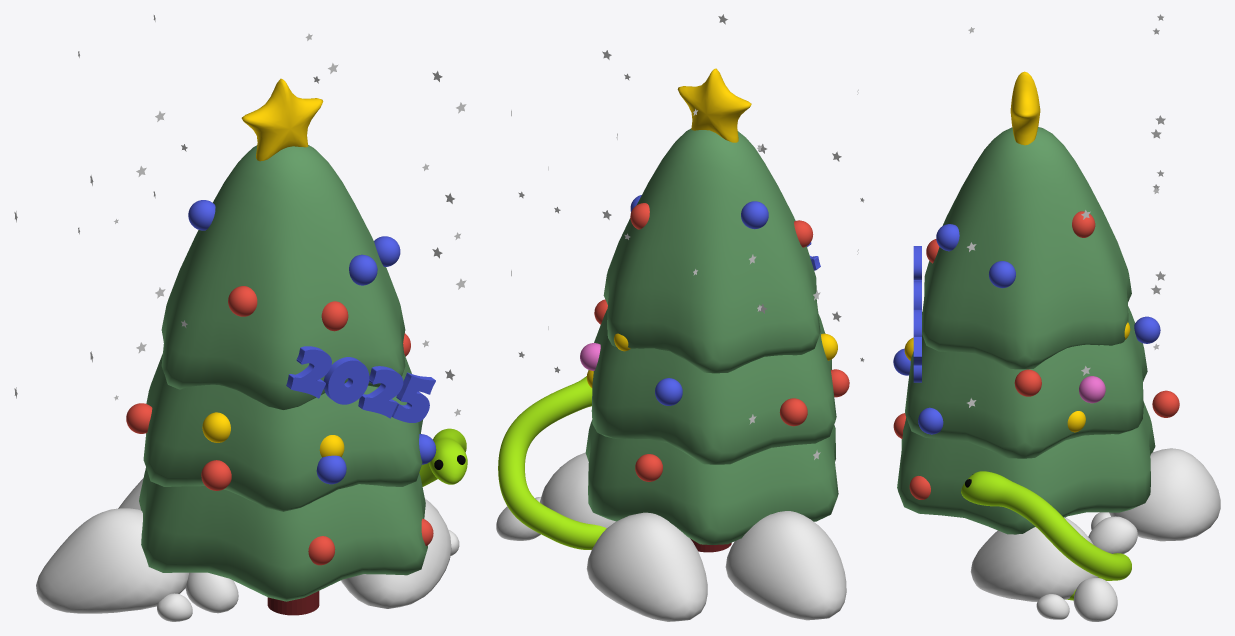
The picture shows the model from 3 angles, left to right: view 1: azimuth 30°, elevation 25°; view 2: azimuth 150°, elevation 25°; view 3: azimuth 270°, elevation 25°; orthographic projection. The views are drawn at different scales.
Visible parts, largest first — view 1: Cylinder.003, Cylinder.002, Cylinder.001, Sphere.018, Text, Sphere.001, Zvezda, Zmeya, Cylinder, Sphere.016, Sphere.022, Sphere.021 (+7 smaller); view 2: Cylinder.003, Cylinder.001, Cylinder.002, Sphere.002, Sphere.018, Zmeya, Sphere.001, Zvezda, Sphere.020, Sphere.027, Sphere.030, Sphere.029; view 3: Cylinder.003, Cylinder.001, Cylinder.002, Sphere.001, Sphere.002, Zmeya, Zvezda, Text, Sphere.030, Sphere.026, Sphere.009, Sphere.012 (+4 smaller).
Boxes of the visible parts, bbox=[...] form: Cylinder.003: bbox=[161, 145, 405, 409]; Cylinder.002: bbox=[139, 467, 427, 601]; Cylinder.001: bbox=[143, 353, 423, 511]; Sphere.018: bbox=[36, 508, 238, 621]; Text: bbox=[286, 346, 435, 422]; Sphere.001: bbox=[341, 498, 459, 608]; Zvezda: bbox=[241, 78, 323, 161]; Zmeya: bbox=[419, 428, 467, 486]; Cylinder: bbox=[267, 591, 319, 615]; Sphere.016: bbox=[201, 460, 231, 490]; Sphere.022: bbox=[228, 286, 257, 316]; Sphere.021: bbox=[316, 455, 346, 484]; Cylinder.003: bbox=[603, 128, 820, 373]; Cylinder.001: bbox=[588, 309, 836, 464]; Cylinder.002: bbox=[585, 420, 838, 544]; Sphere.002: bbox=[586, 512, 707, 621]; Sphere.018: bbox=[725, 511, 846, 620]; Zmeya: bbox=[498, 376, 606, 549]; Sphere.001: bbox=[496, 452, 615, 540]; Zvezda: bbox=[677, 68, 751, 142]; Sphere.020: bbox=[779, 398, 807, 426]; Sphere.027: bbox=[655, 378, 682, 405]; Sphere.030: bbox=[635, 454, 662, 481]; Sphere.029: bbox=[741, 201, 768, 229]; Cylinder.003: bbox=[922, 127, 1131, 369]; Cylinder.001: bbox=[905, 306, 1147, 458]; Cylinder.002: bbox=[897, 401, 1155, 534]; Sphere.001: bbox=[970, 517, 1117, 621]; Sphere.002: bbox=[1088, 448, 1220, 553]; Zmeya: bbox=[961, 471, 1131, 600]; Zvezda: bbox=[1010, 71, 1040, 145]; Text: bbox=[913, 246, 921, 382]; Sphere.030: bbox=[1152, 390, 1179, 417]; Sphere.026: bbox=[1014, 369, 1041, 396]; Sphere.009: bbox=[988, 261, 1015, 288]; Sphere.012: bbox=[1079, 376, 1105, 403].
Bounding box in the file's own units: 1.48 × 2.03 × 1.2.
